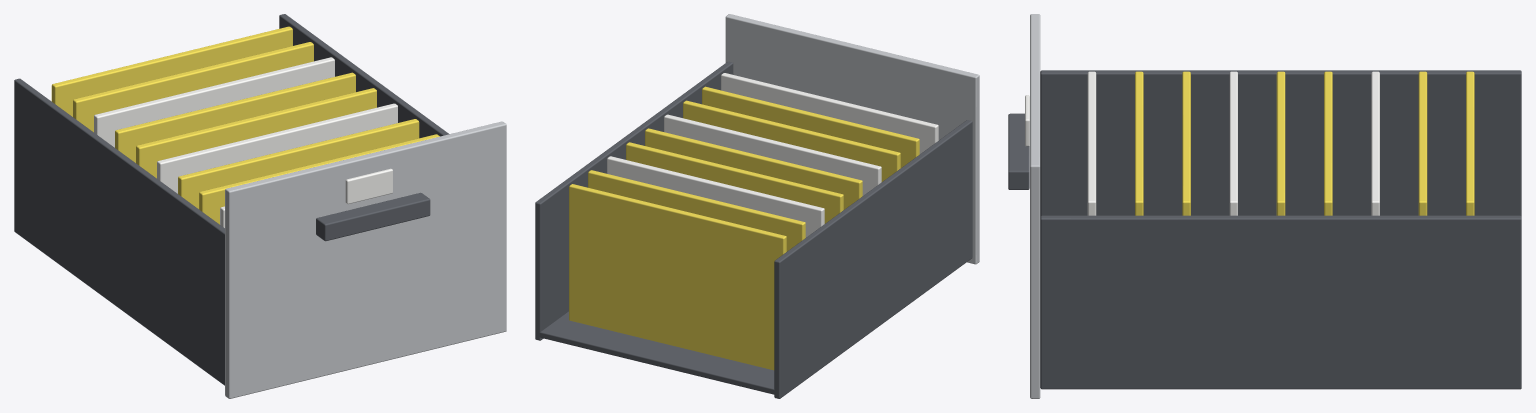
The model's file is SM_FileDrawer.fbx.
3 renders of one model, left to right at view 1: azimuth 30°, elevation 25°; view 2: azimuth 150°, elevation 25°; view 3: azimuth 270°, elevation 25°, orthographic. The views are drawn at different scales.
Parts seen in each view (by area): view 1: SM_FileDrawer; view 2: SM_FileDrawer; view 3: SM_FileDrawer.
Part boxes in pixels (<box>): SM_FileDrawer: <box>14,14,506,398</box>; SM_FileDrawer: <box>535,14,979,398</box>; SM_FileDrawer: <box>1008,14,1521,398</box>.
Size of the model in its own units: 0.42 by 0.3 by 0.5975.
